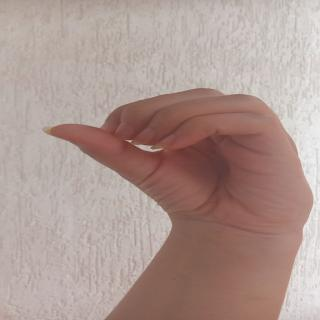WAW: (41, 82, 316, 234)
